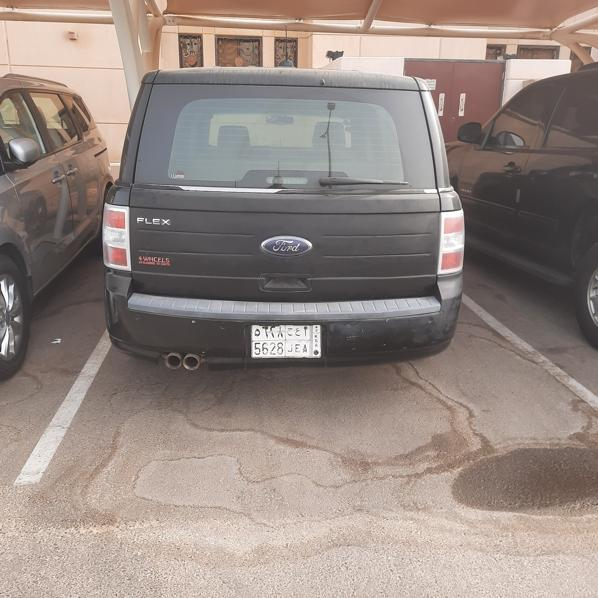numberplate: (251, 322, 322, 359)
